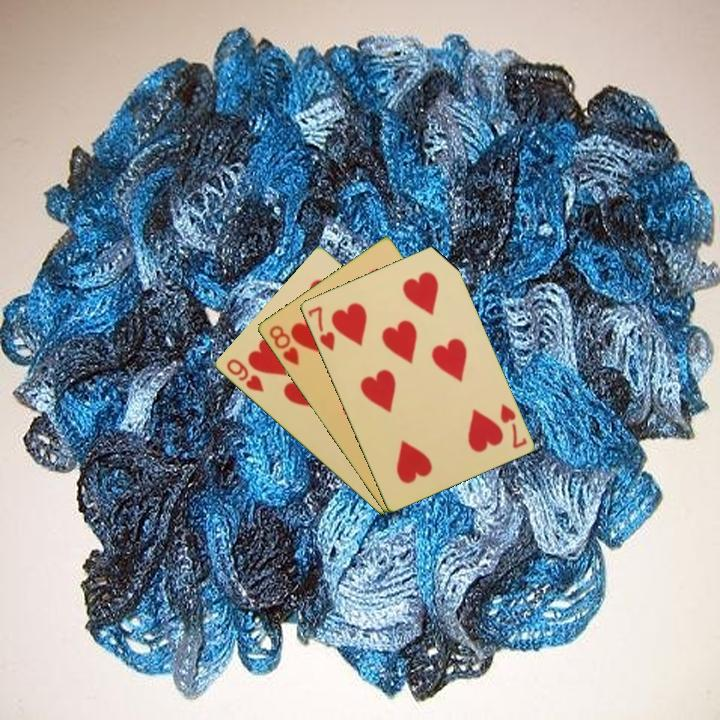7h: (496, 400, 530, 452), (304, 303, 338, 354)
8h: (265, 321, 302, 369)
9h: (222, 355, 267, 395)
